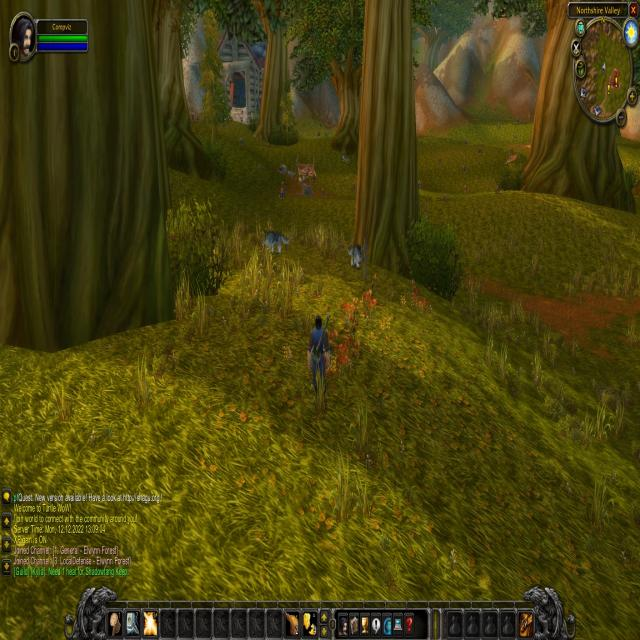wolf: (257, 220, 293, 262), (342, 237, 368, 274), (338, 148, 352, 172)
